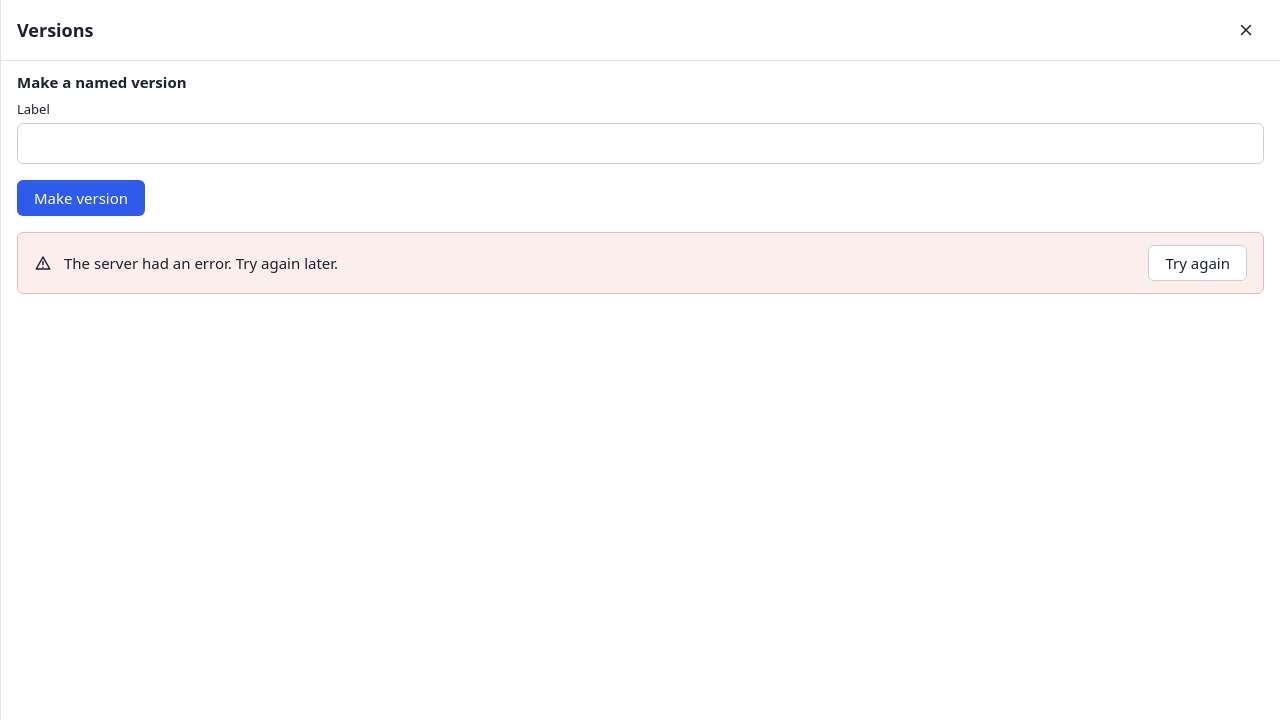
Test: VersionPanel › shows an error and retries
What coordinates should you click on to do the following:
click the button "Try again"
I would click on:
 (1198, 263)
Its box is [1148, 245, 1247, 281].
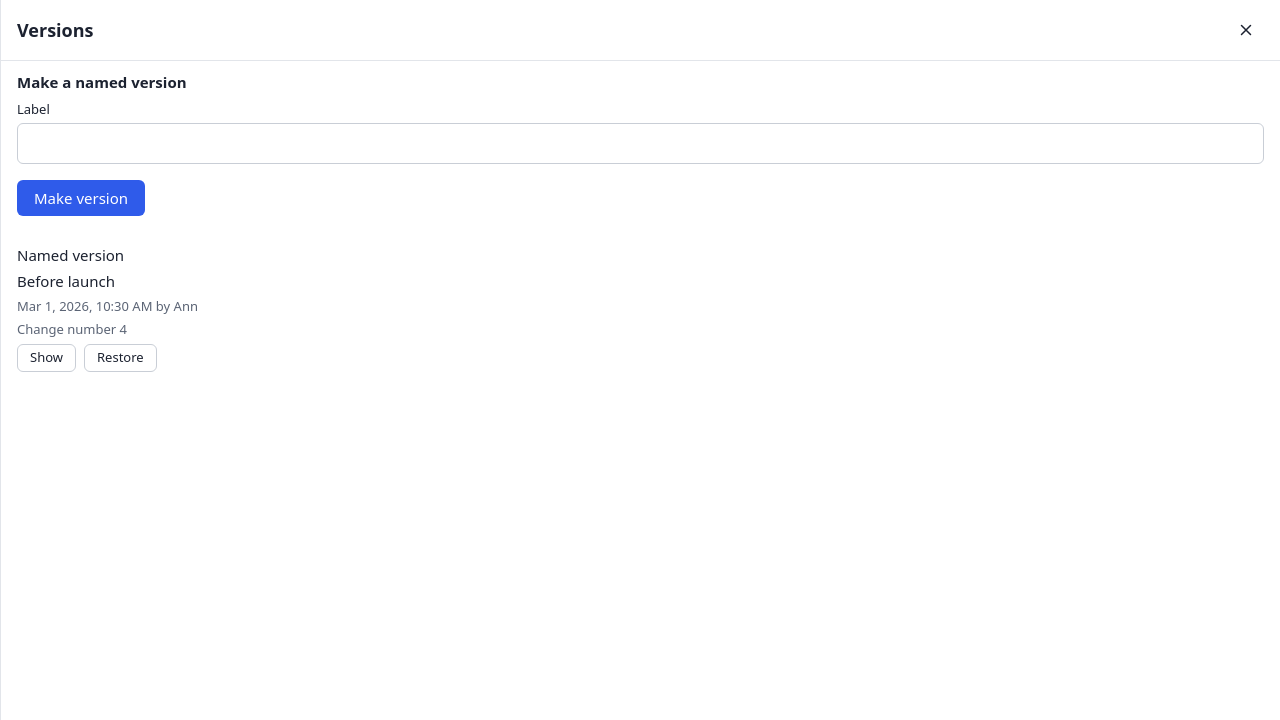
Now the text "Before launch" is shown, box [17, 271, 115, 291]
